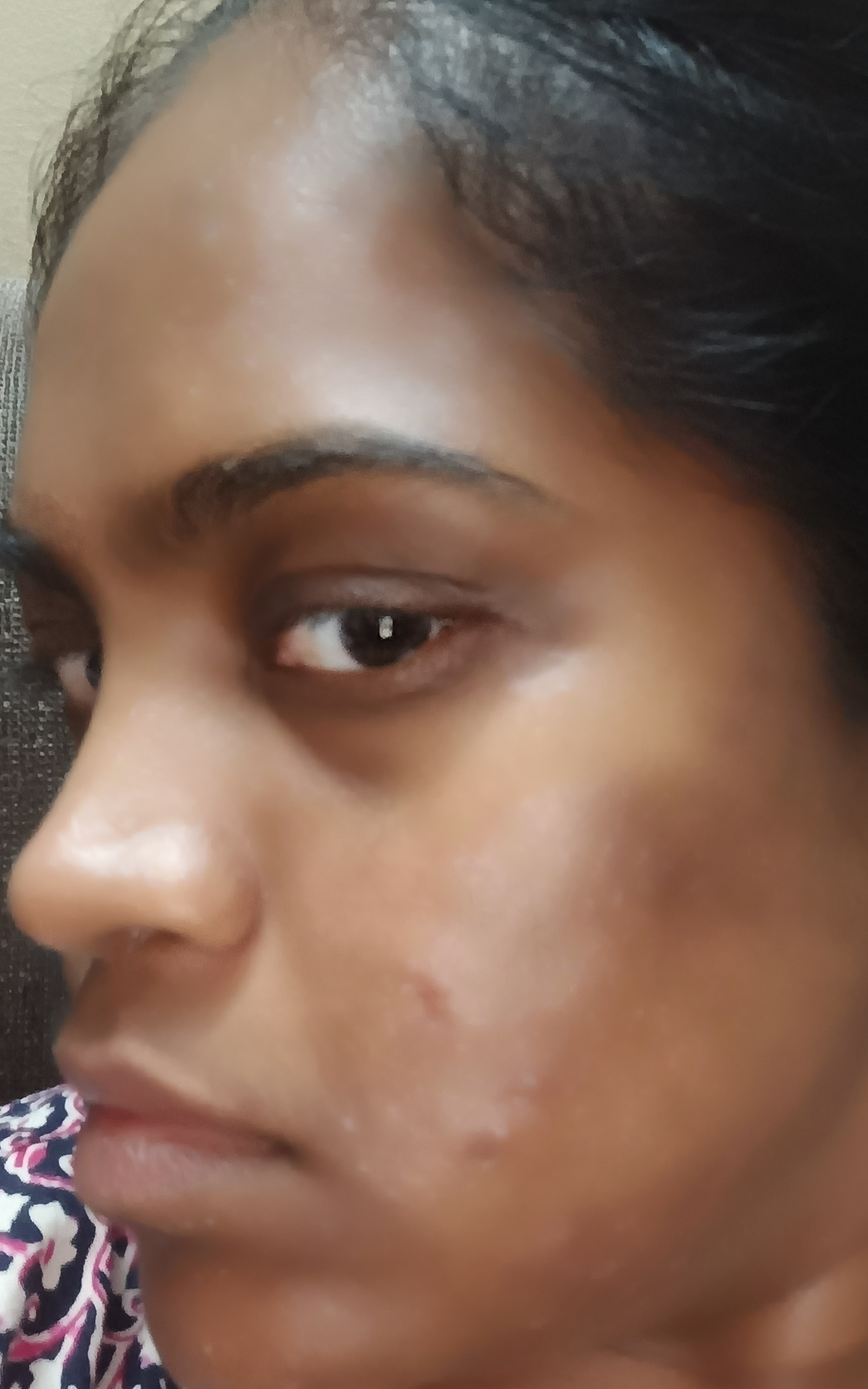nodule: (399, 955, 486, 1044), (463, 1081, 536, 1179)
